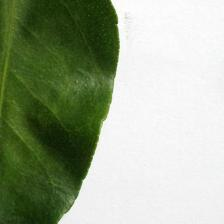healthy: (0, 1, 119, 224)
